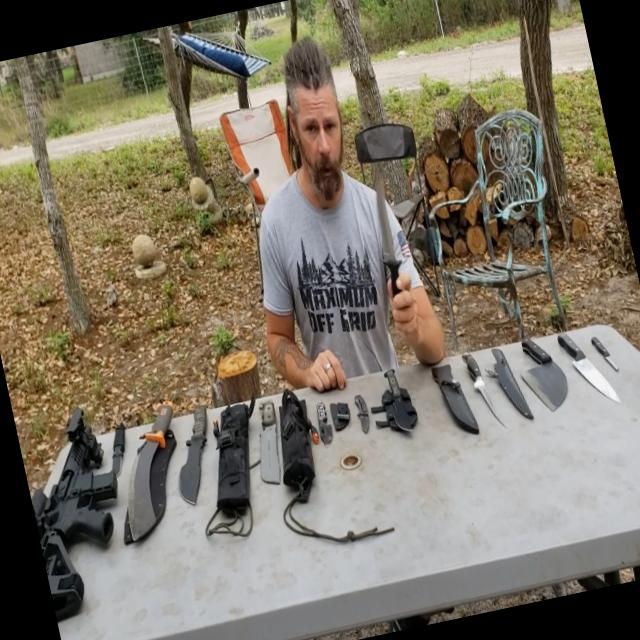knife: (92, 393, 208, 554), (551, 312, 634, 432), (160, 394, 230, 514), (508, 318, 576, 418), (242, 388, 300, 504), (455, 332, 511, 435), (95, 402, 148, 492), (375, 366, 423, 454), (346, 381, 393, 455), (579, 316, 627, 384), (302, 385, 346, 454)
long weapon: (10, 378, 156, 632)
